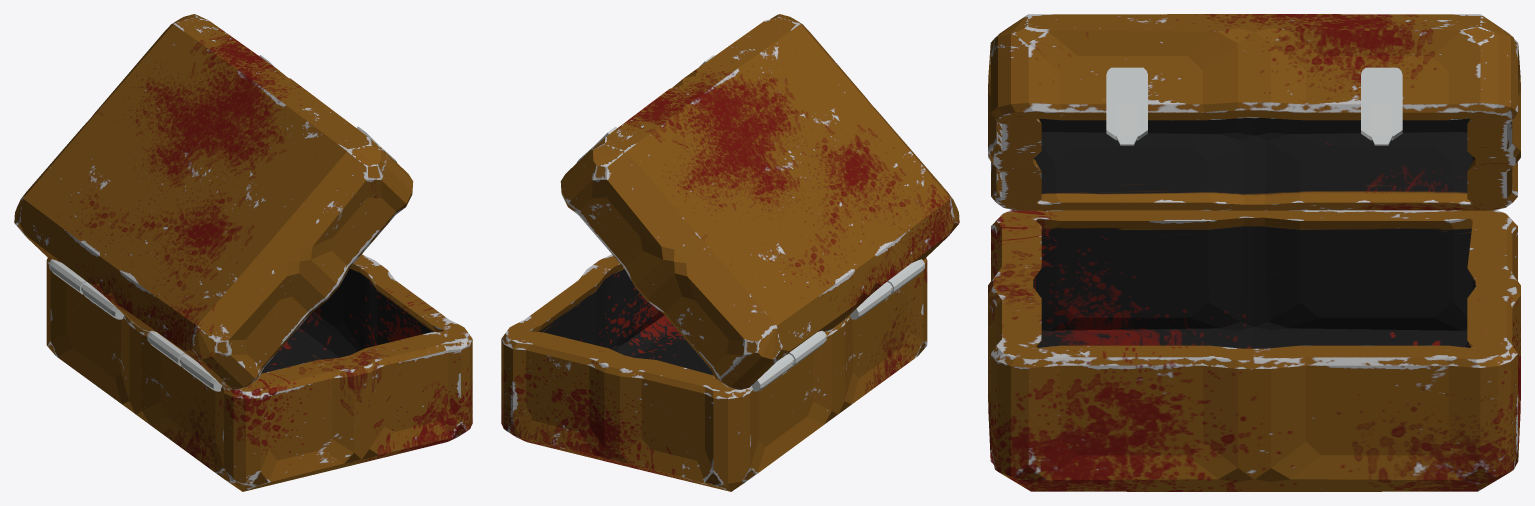
Rendered from Mili-Box-Open_45_Color.fbx.
3 renders of one model, left to right at view 1: azimuth 30°, elevation 25°; view 2: azimuth 150°, elevation 25°; view 3: azimuth 270°, elevation 25°, orthographic. The views are drawn at different scales.
Visible parts, largest first — view 1: joined; view 2: joined; view 3: joined.
Part boxes in pixels (box(x1,y1,x2,y2)): joined: box(14, 14, 472, 491); joined: box(501, 14, 959, 491); joined: box(988, 14, 1520, 491).
Size of the model in its own units: 314 by 342 by 399.
4 materials, 4 textured.
